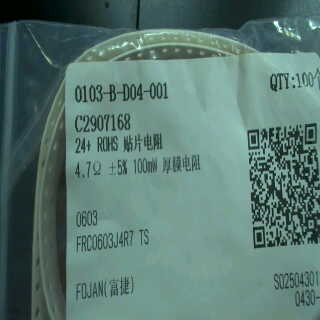4.7R: (70, 160, 106, 182)
